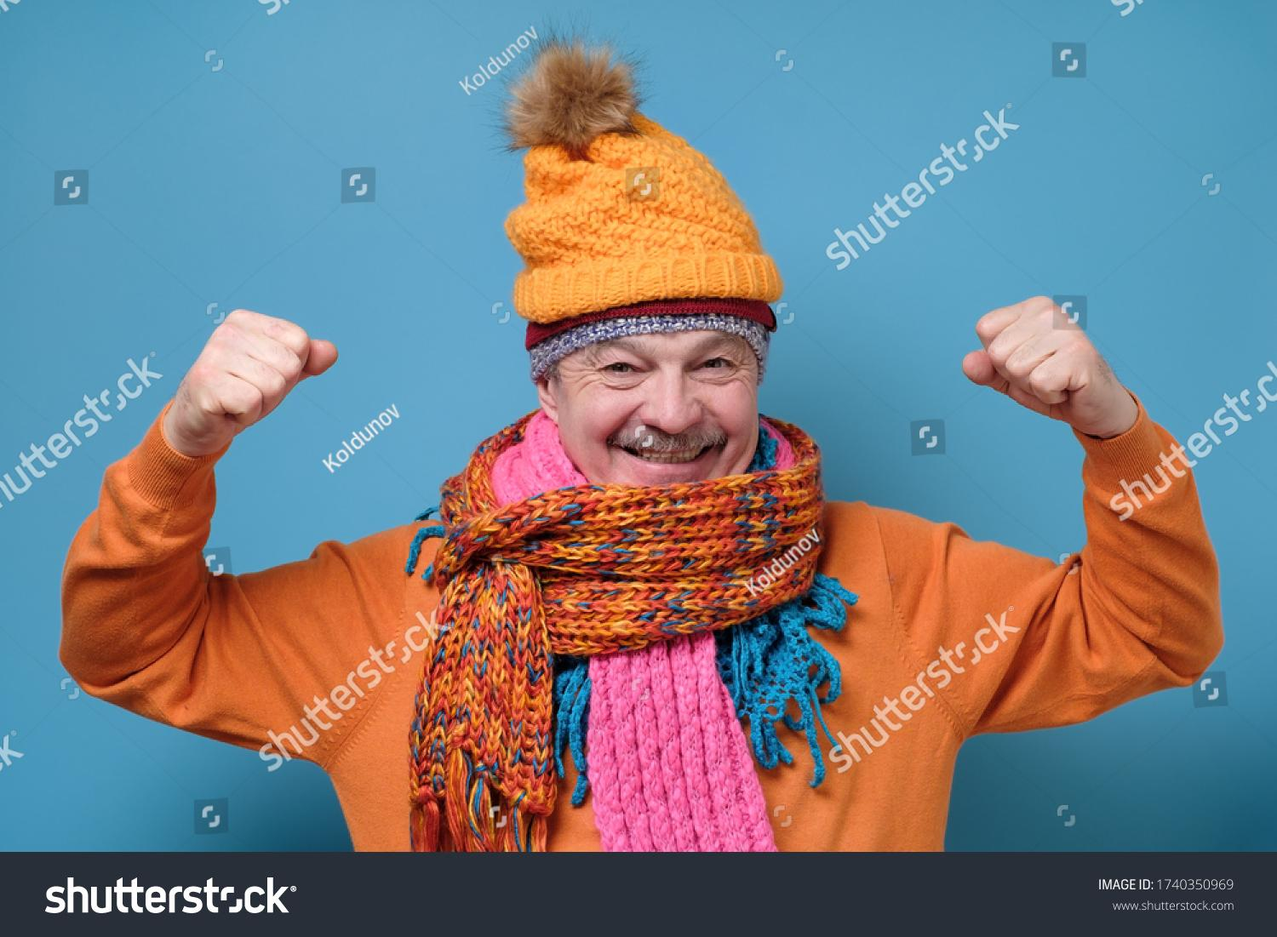cap: (491, 20, 803, 386)
scarf-kerchief: (415, 400, 849, 749)
